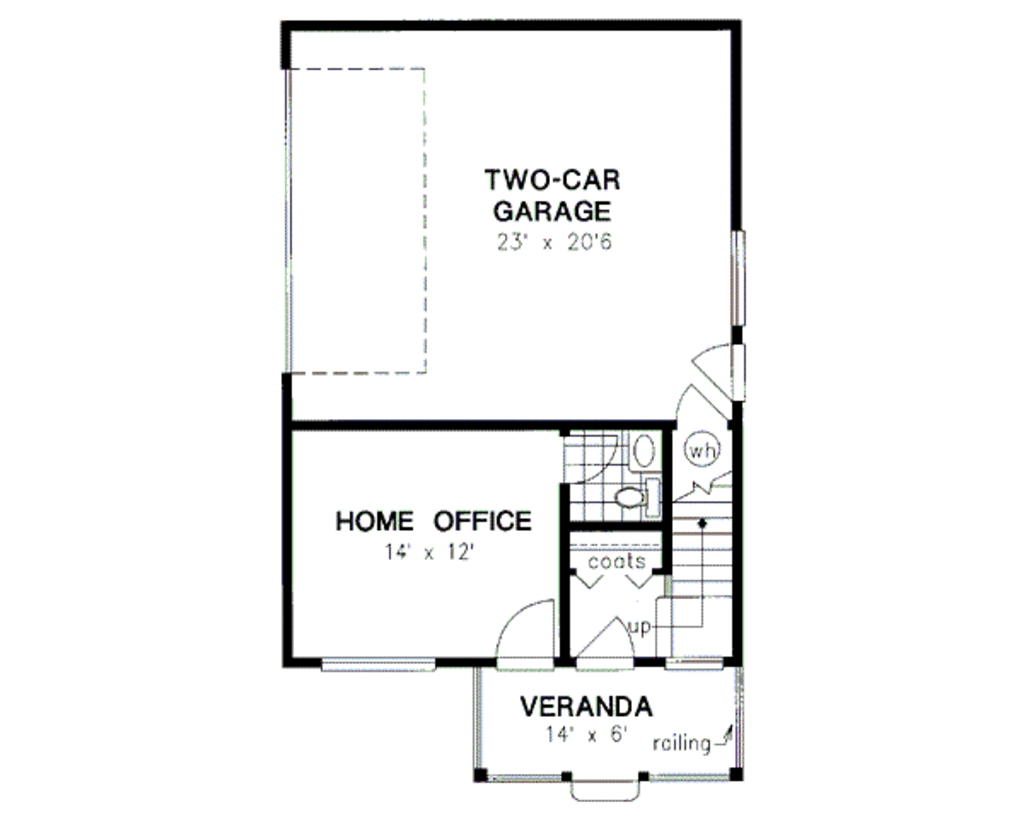door: (685, 339, 759, 404), (497, 599, 562, 672), (576, 612, 645, 668), (671, 383, 734, 431), (567, 431, 616, 483)
large_sink: (612, 478, 664, 521)
small_sink: (625, 429, 662, 478)
stairs: (655, 467, 749, 668)
window: (318, 652, 452, 672), (730, 230, 744, 335)
